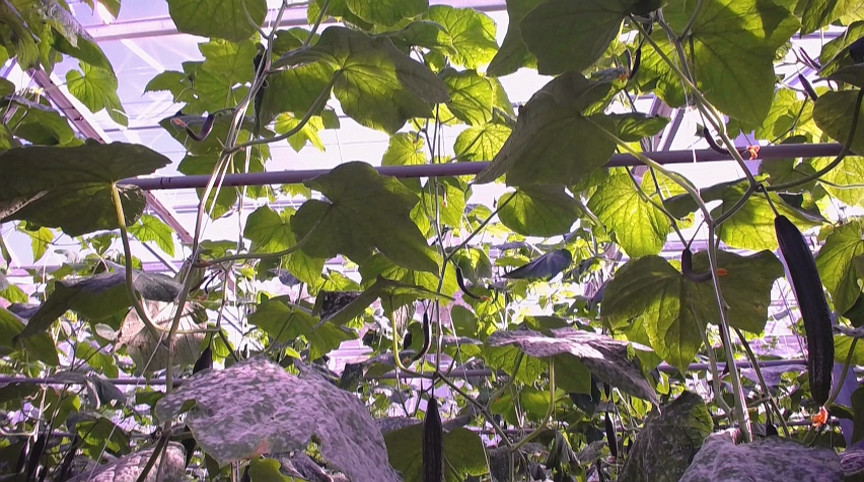cucumber: (775, 216, 835, 406), (424, 398, 444, 482)
